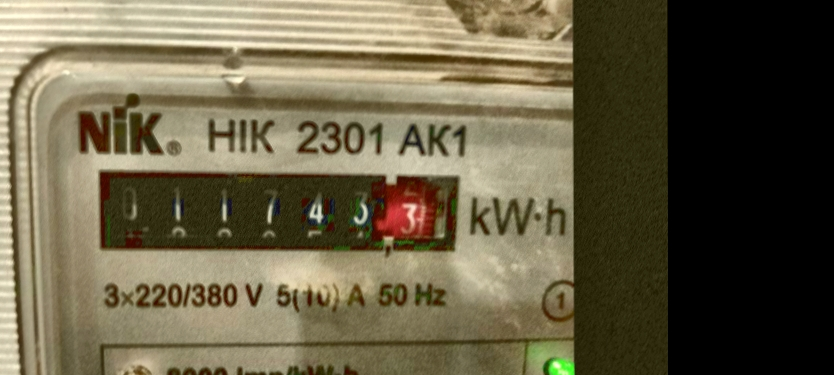0: (116, 185, 138, 224), (166, 184, 184, 225)
1: (213, 185, 229, 226)
3: (348, 187, 368, 230), (396, 200, 416, 238)
4: (303, 187, 323, 227)
7: (256, 185, 279, 229)
screen: (76, 157, 465, 265)
